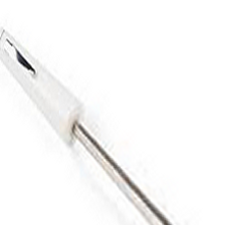Screwdriver: (1, 23, 199, 225)
